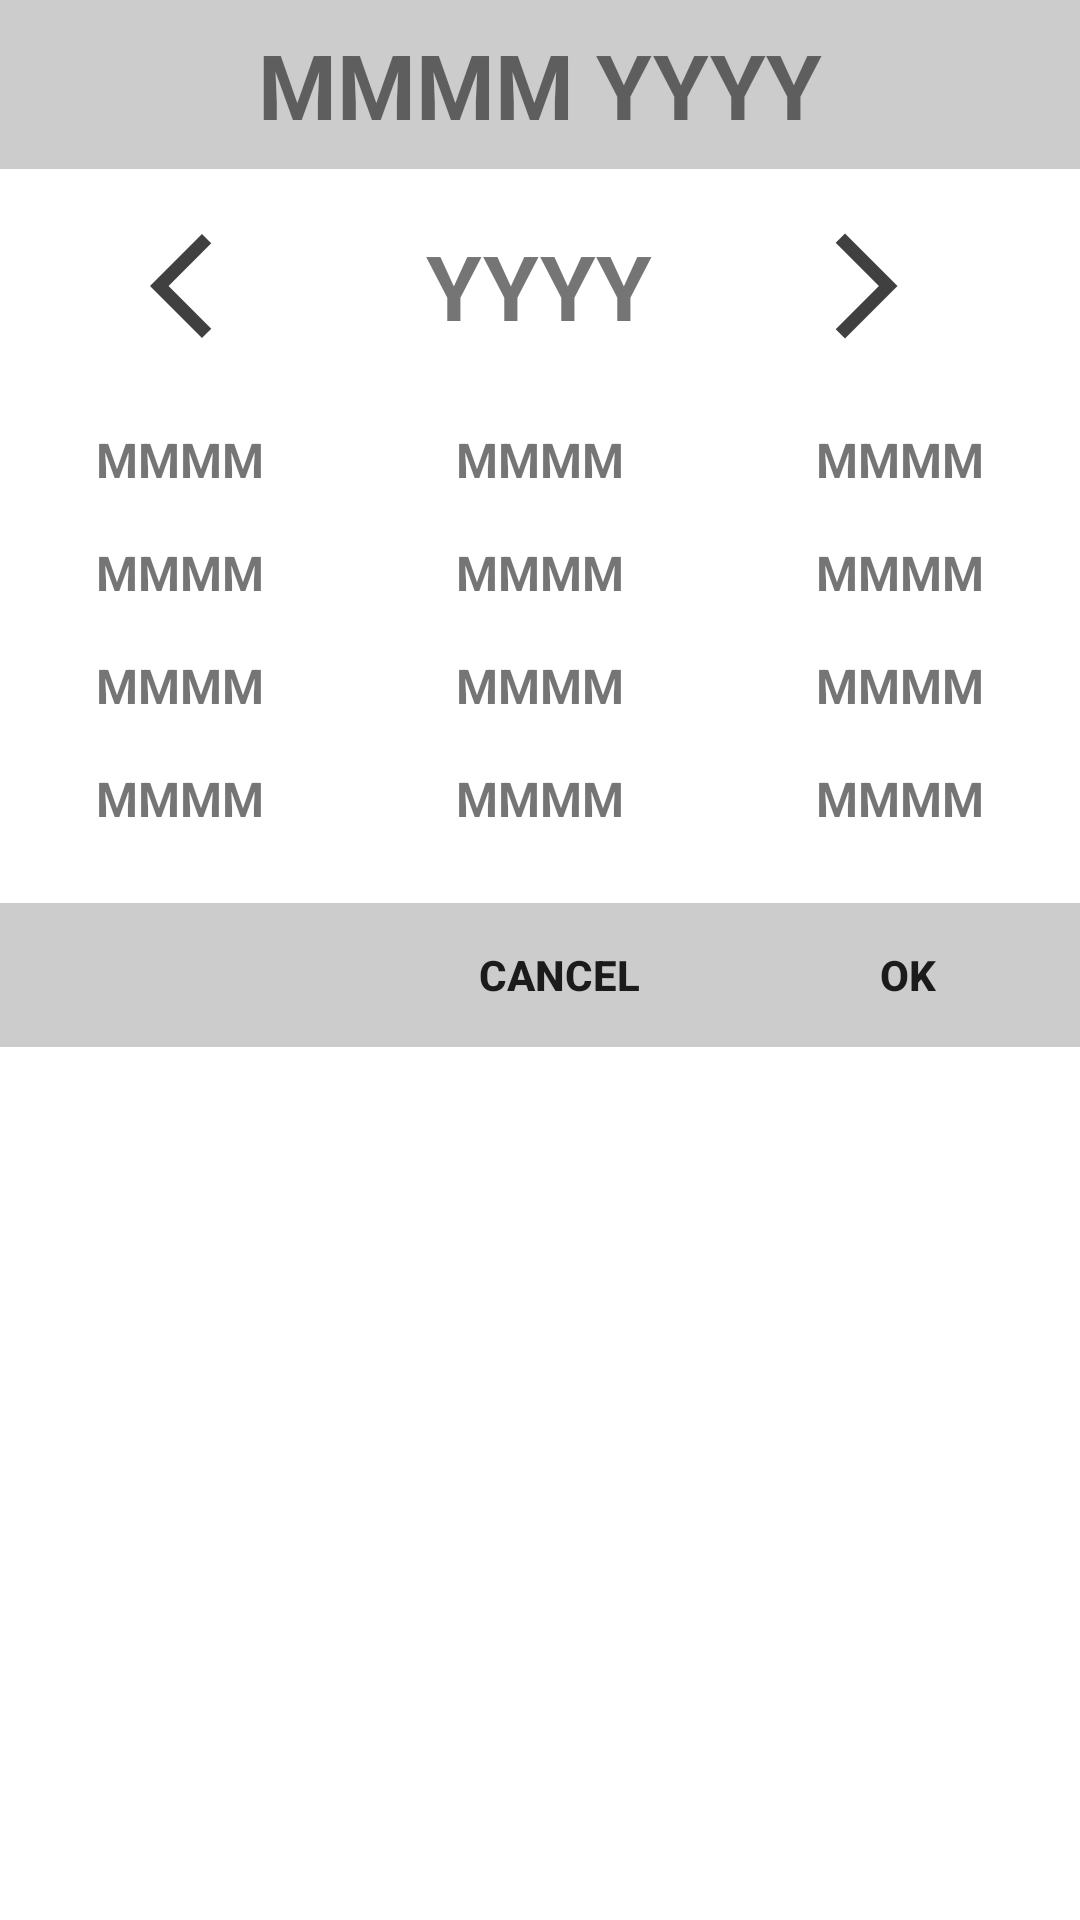

Screen size 1080px×1920px. Icon name, then its center in pixels as point (x, y):
arrow back: point (180, 286)
arrow forward: point (866, 286)
